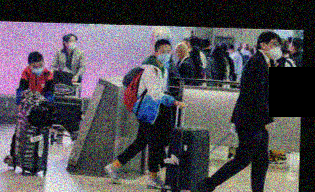with_mask: (266, 39, 283, 61), (157, 47, 172, 64), (29, 61, 44, 76), (66, 37, 78, 51)
